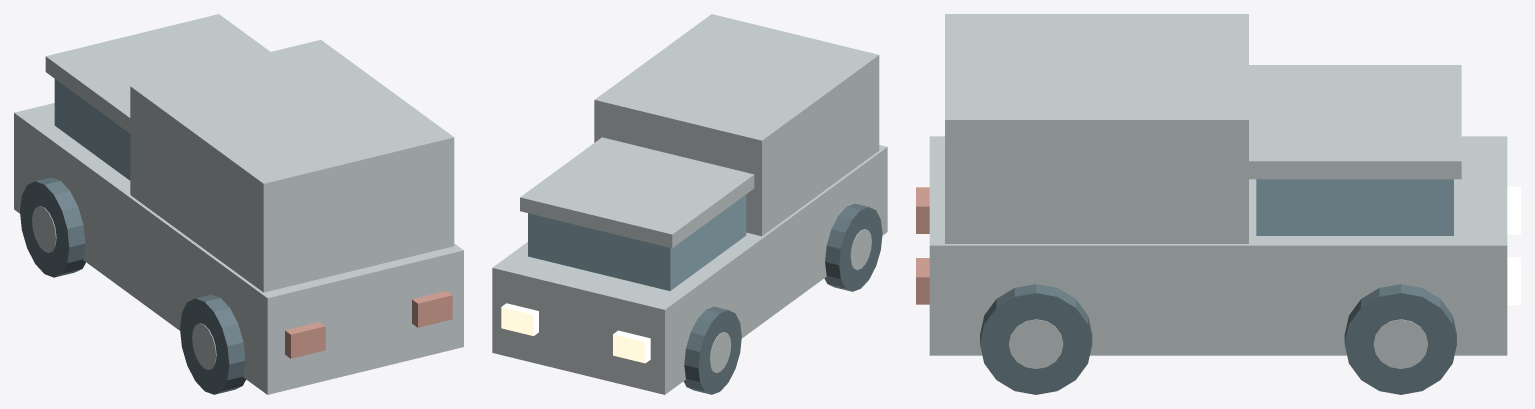
The model's file is remaster_vehicle_6.glb.
3 views of the same model, side by side, from view 1: azimuth 30°, elevation 25°; view 2: azimuth 150°, elevation 25°; view 3: azimuth 270°, elevation 25° (orthographic). The views are drawn at different scales.
Parts seen in each view (by area): view 1: remaster_vehicle_6 metal, remaster_vehicle_6 dark, remaster_vehicle_6 glass, remaster_vehicle_6 red; view 2: remaster_vehicle_6 metal, remaster_vehicle_6 glass, remaster_vehicle_6 dark, remaster_vehicle_6 warm; view 3: remaster_vehicle_6 metal, remaster_vehicle_6 dark, remaster_vehicle_6 glass, remaster_vehicle_6 warm, remaster_vehicle_6 red.
Part boxes in pixels (box(x1,y1,x2,y2)): remaster_vehicle_6 metal: box(14, 14, 463, 394); remaster_vehicle_6 dark: box(20, 177, 245, 394); remaster_vehicle_6 glass: box(54, 79, 130, 180); remaster_vehicle_6 red: box(285, 291, 452, 358); remaster_vehicle_6 metal: box(492, 14, 887, 394); remaster_vehicle_6 glass: box(528, 194, 746, 290); remaster_vehicle_6 dark: box(683, 203, 882, 394); remaster_vehicle_6 warm: box(501, 303, 650, 363); remaster_vehicle_6 metal: box(929, 14, 1507, 368); remaster_vehicle_6 dark: box(980, 284, 1456, 394); remaster_vehicle_6 glass: box(1256, 179, 1453, 235); remaster_vehicle_6 warm: box(1507, 186, 1520, 305); remaster_vehicle_6 red: box(916, 187, 929, 304).
Bounding box in the file's own units: 1.99 × 1.92 × 3.98.
